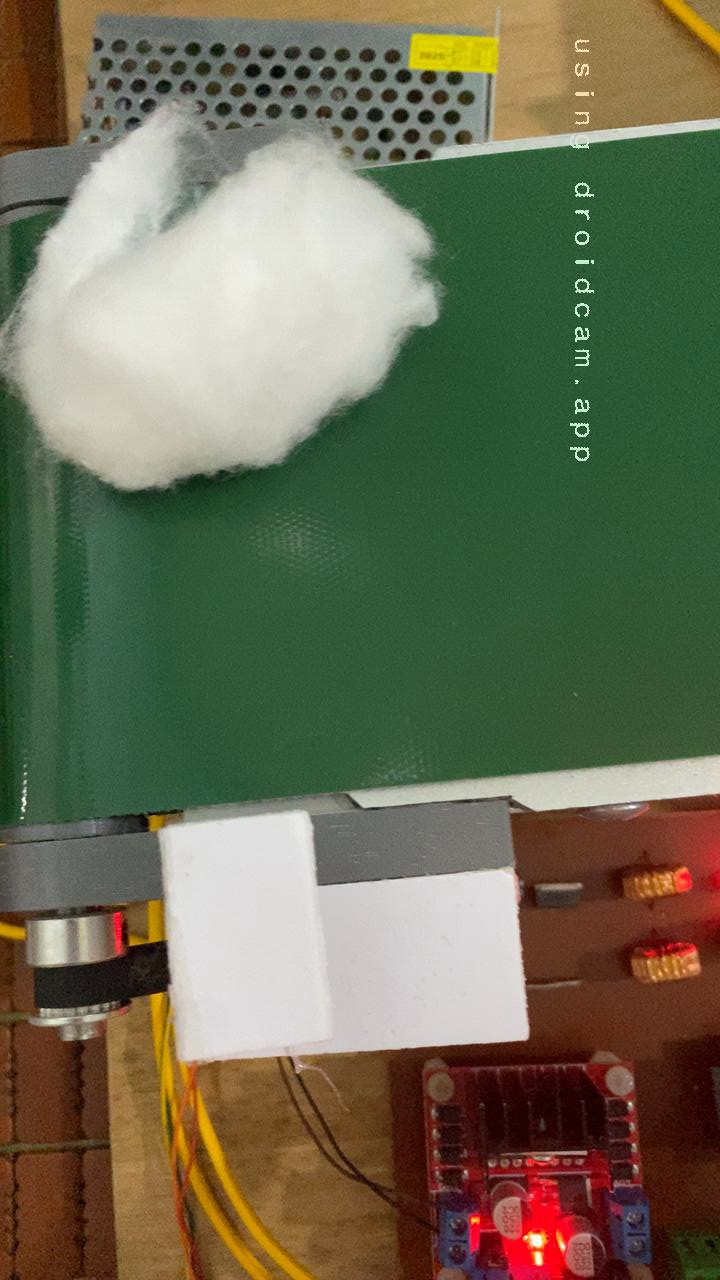cotton: (0, 156, 463, 496)
